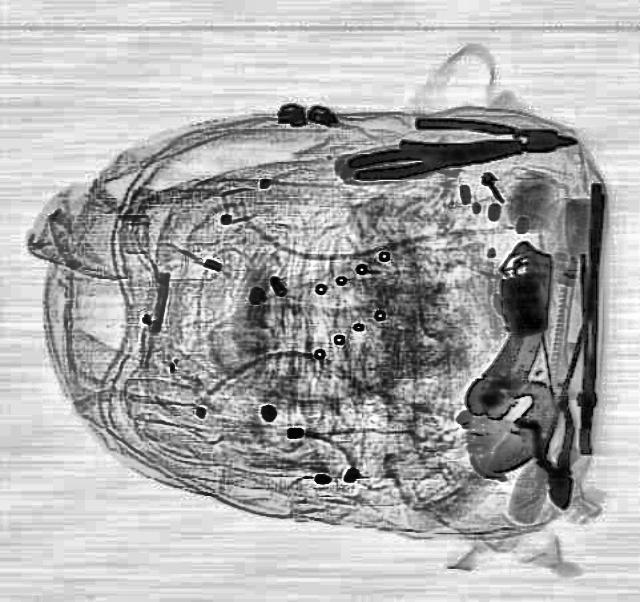Pliers: (510, 394, 592, 514), (346, 130, 522, 182)
